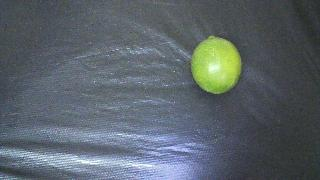LOCAL: (191, 36, 241, 94)
